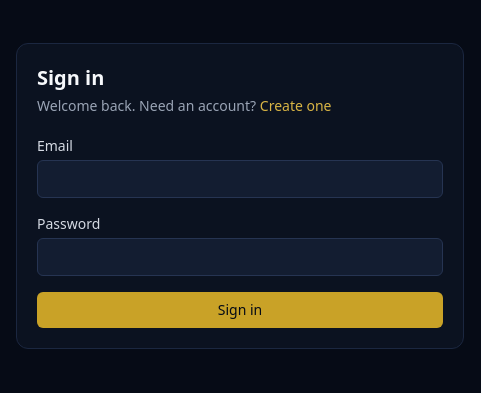
Test case: LoginPage › surfaces the uniform 401 message from the error envelope
The image size is (481, 393).
Type "owner@example.com" into the field labelled "Email". click: (240, 179)
box: [37,160,443,198]
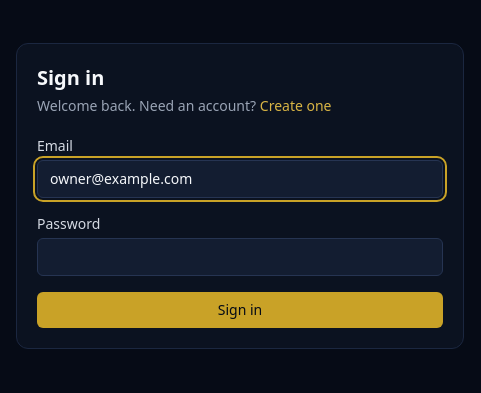
Type "whatever-1" into the password field labelled "Password". click: (240, 257)
box: [37,238,443,276]
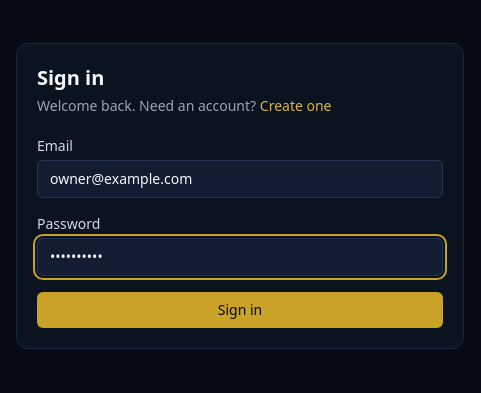
Click the button "Sign in". click: click(240, 310)
box: [37,292,443,328]
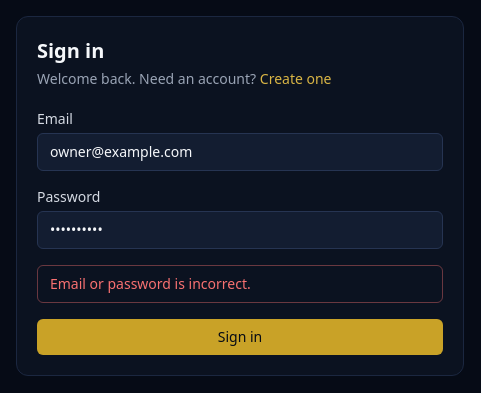
expect the message reads "Email or password is incorrect.": met, box [50,274,251,293]
